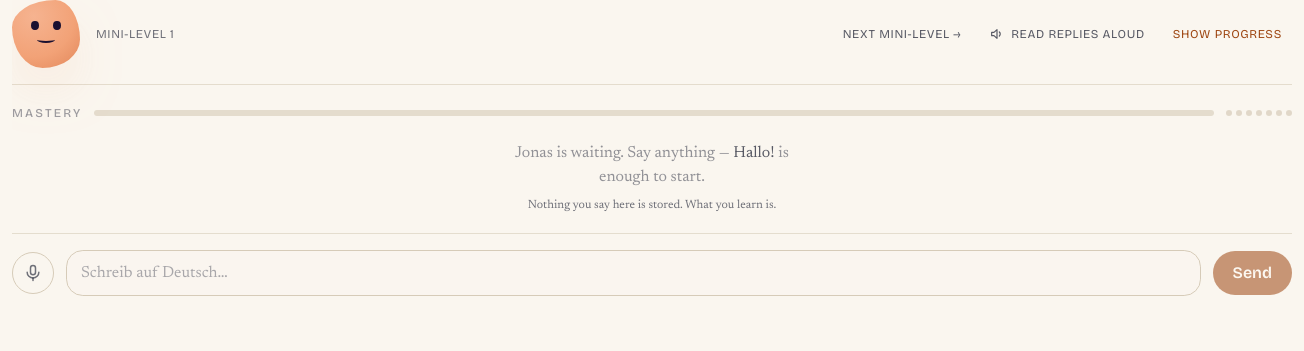
Test: speaking to the tutor › says so plainly when the microphone is refused
Step 1. Click the button named "speak your message" → coordinates (33, 273), box x1=12 y1=252 x2=54 y2=294
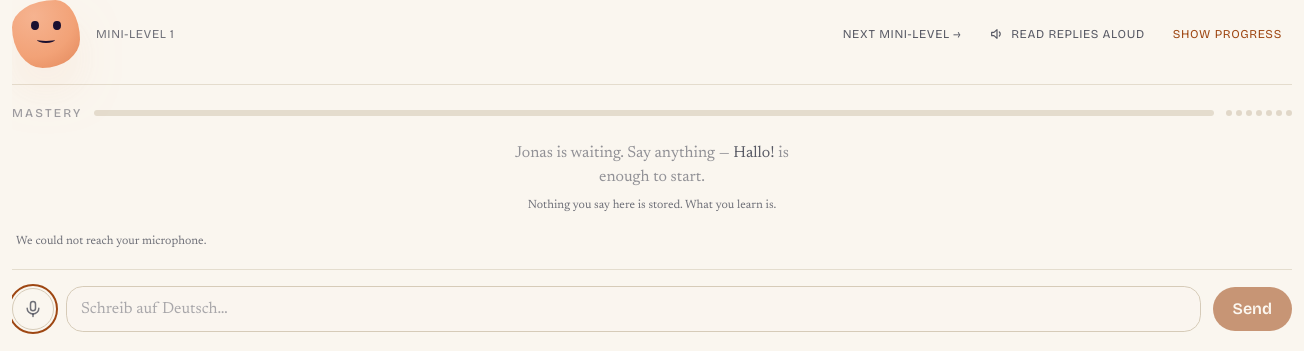
Check: the text "We could not reach your microphone." is shown, box x1=16 y1=235 x2=206 y2=247
